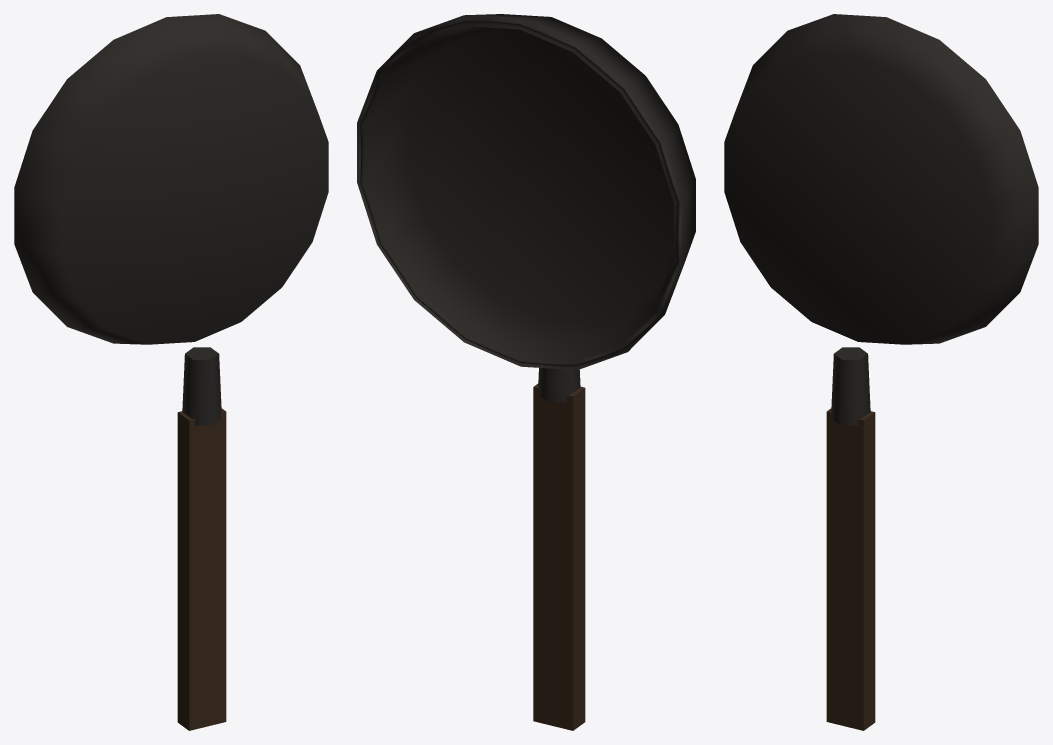
The model's file is sample-weapon.glb.
3 views of the same model, side by side, from view 1: azimuth 30°, elevation 25°; view 2: azimuth 150°, elevation 25°; view 3: azimuth 330°, elevation 25° (orthographic). The views are drawn at different scales.
Parts seen in each view (by area): view 1: pan, handle, neck; view 2: pan, handle, neck; view 3: pan, handle, neck.
Boxes of the visible parts, x1,y1,x2,y2 form: pan: (14, 14, 328, 344); handle: (177, 408, 226, 730); neck: (182, 347, 221, 425); pan: (357, 14, 695, 369); handle: (533, 383, 585, 730); neck: (538, 368, 580, 402); pan: (724, 14, 1038, 344); handle: (826, 408, 875, 730); neck: (831, 347, 870, 425).
Bounding box in the file's own units: 0.2462 × 0.525 × 0.066.
